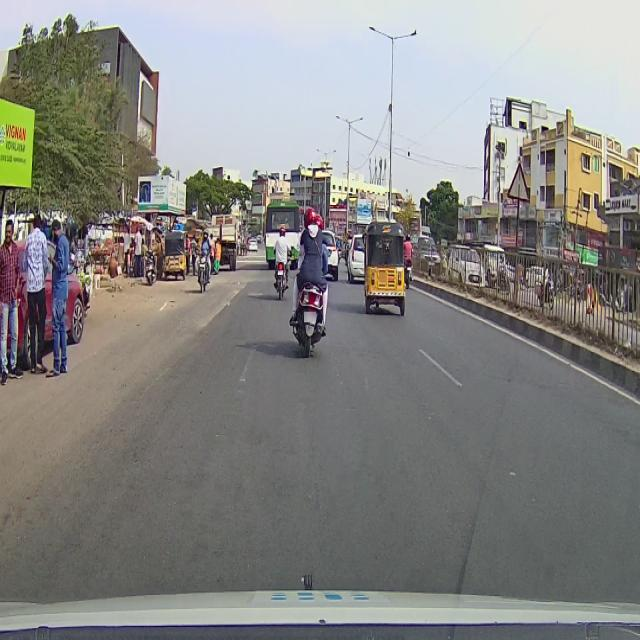auto ahead at: (362, 224, 408, 323)
motorcycle ahead at: (288, 278, 332, 354)
